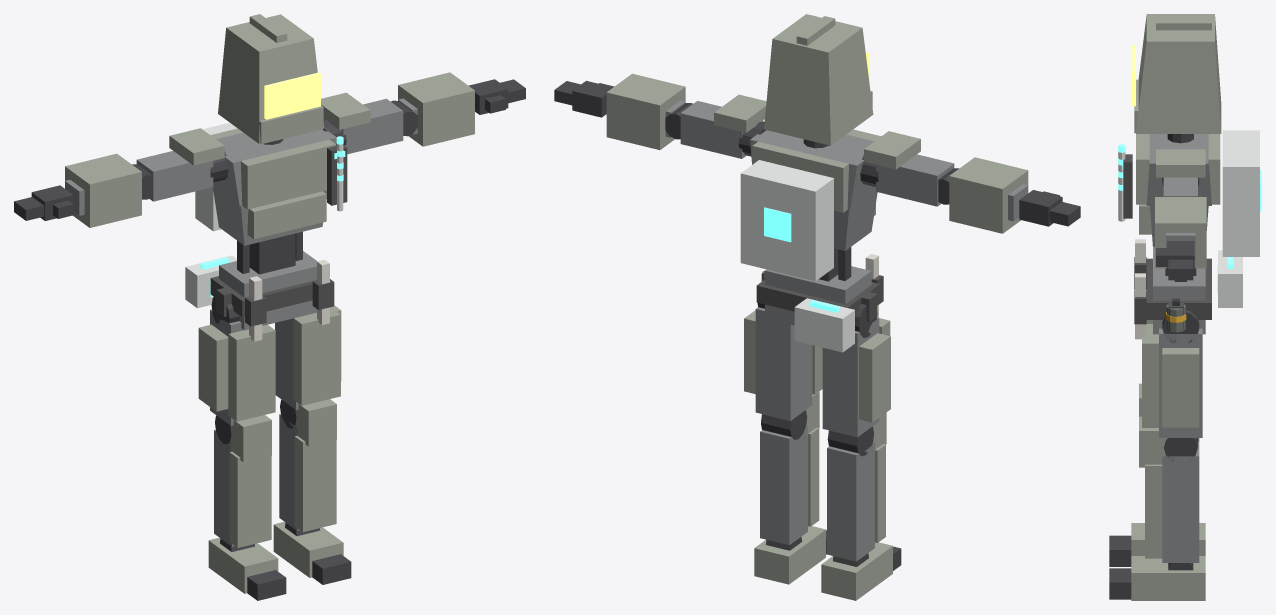
Rendered from char_F1_medic.glb.
3 renders of one model, left to right at view 1: azimuth 30°, elevation 25°; view 2: azimuth 150°, elevation 25°; view 3: azimuth 270°, elevation 25°, orthographic. The views are drawn at different scales.
Parts seen in each view (by area): view 1: Head_mesh, UpperChest_mesh, RightUpperLeg_mesh, LeftLowerLeg_mesh, RightLowerLeg_mesh, LeftUpperLeg_mesh, Hips_mesh, RightLowerArm_mesh, LeftLowerArm_mesh, Chest_mesh, RightUpperArm_mesh, LeftUpperArm_mesh (+8 smaller); view 2: UpperChest_mesh, Head_mesh, LeftLowerLeg_mesh, RightLowerLeg_mesh, RightUpperLeg_mesh, LeftUpperLeg_mesh, RightLowerArm_mesh, LeftLowerArm_mesh, Hips_mesh, RightUpperArm_mesh, LeftUpperArm_mesh, RightFoot_mesh (+5 smaller); view 3: Head_mesh, UpperChest_mesh, LeftLowerLeg_mesh, LeftUpperLeg_mesh, Hips_mesh, LeftFoot_mesh, LeftLowerArm_mesh, LeftUpperArm_mesh, Slot_ReviveKitSlot, LeftHand_mesh, LeftToes_mesh, RightToes_mesh (+6 smaller).
Part boxes in pixels (x1,y1,x2,y2): Head_mesh: (218, 14, 324, 144); UpperChest_mesh: (195, 122, 347, 231); RightUpperLeg_mesh: (198, 295, 275, 425); LeftLowerLeg_mesh: (279, 399, 336, 531); RightLowerLeg_mesh: (214, 415, 271, 547); LeftUpperLeg_mesh: (275, 305, 341, 409); Hips_mesh: (210, 251, 334, 330); RightLowerArm_mesh: (65, 153, 152, 227); LeftLowerArm_mesh: (391, 72, 474, 146); Chest_mesh: (213, 187, 326, 245); RightUpperArm_mesh: (136, 128, 224, 201); LeftUpperArm_mesh: (321, 92, 403, 154); UpperChest_mesh: (740, 129, 880, 281); Head_mesh: (764, 14, 873, 145); LeftLowerLeg_mesh: (760, 391, 819, 545); RightLowerLeg_mesh: (827, 412, 886, 561); RightUpperLeg_mesh: (822, 304, 890, 437); LeftUpperLeg_mesh: (744, 302, 822, 420); RightLowerArm_mesh: (938, 157, 1028, 233); LeftLowerArm_mesh: (606, 73, 692, 149); Hips_mesh: (756, 266, 883, 325); RightUpperArm_mesh: (864, 131, 954, 206); LeftUpperArm_mesh: (680, 94, 766, 158); RightFoot_mesh: (821, 542, 892, 600); Head_mesh: (1131, 14, 1221, 133); UpperChest_mesh: (1122, 130, 1261, 256); LeftLowerLeg_mesh: (1139, 416, 1199, 562); LeftUpperLeg_mesh: (1142, 310, 1202, 437); Hips_mesh: (1134, 247, 1211, 334); LeftFoot_mesh: (1131, 556, 1205, 600); LeftLowerArm_mesh: (1155, 197, 1206, 268); LeftUpperArm_mesh: (1156, 149, 1205, 196); Slot_ReviveKitSlot: (1217, 250, 1242, 307); LeftHand_mesh: (1156, 241, 1194, 280); LeftToes_mesh: (1109, 568, 1131, 599); RightToes_mesh: (1109, 535, 1131, 566).
Bounding box in the file's own units: 1.92 × 1.97 × 0.49.
